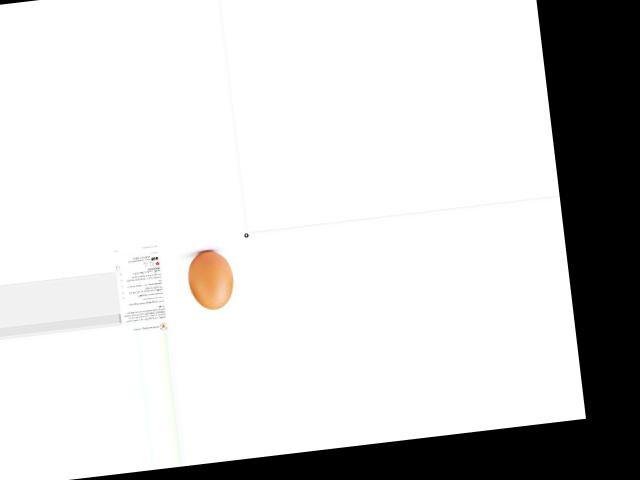egg: (185, 248, 235, 311)
